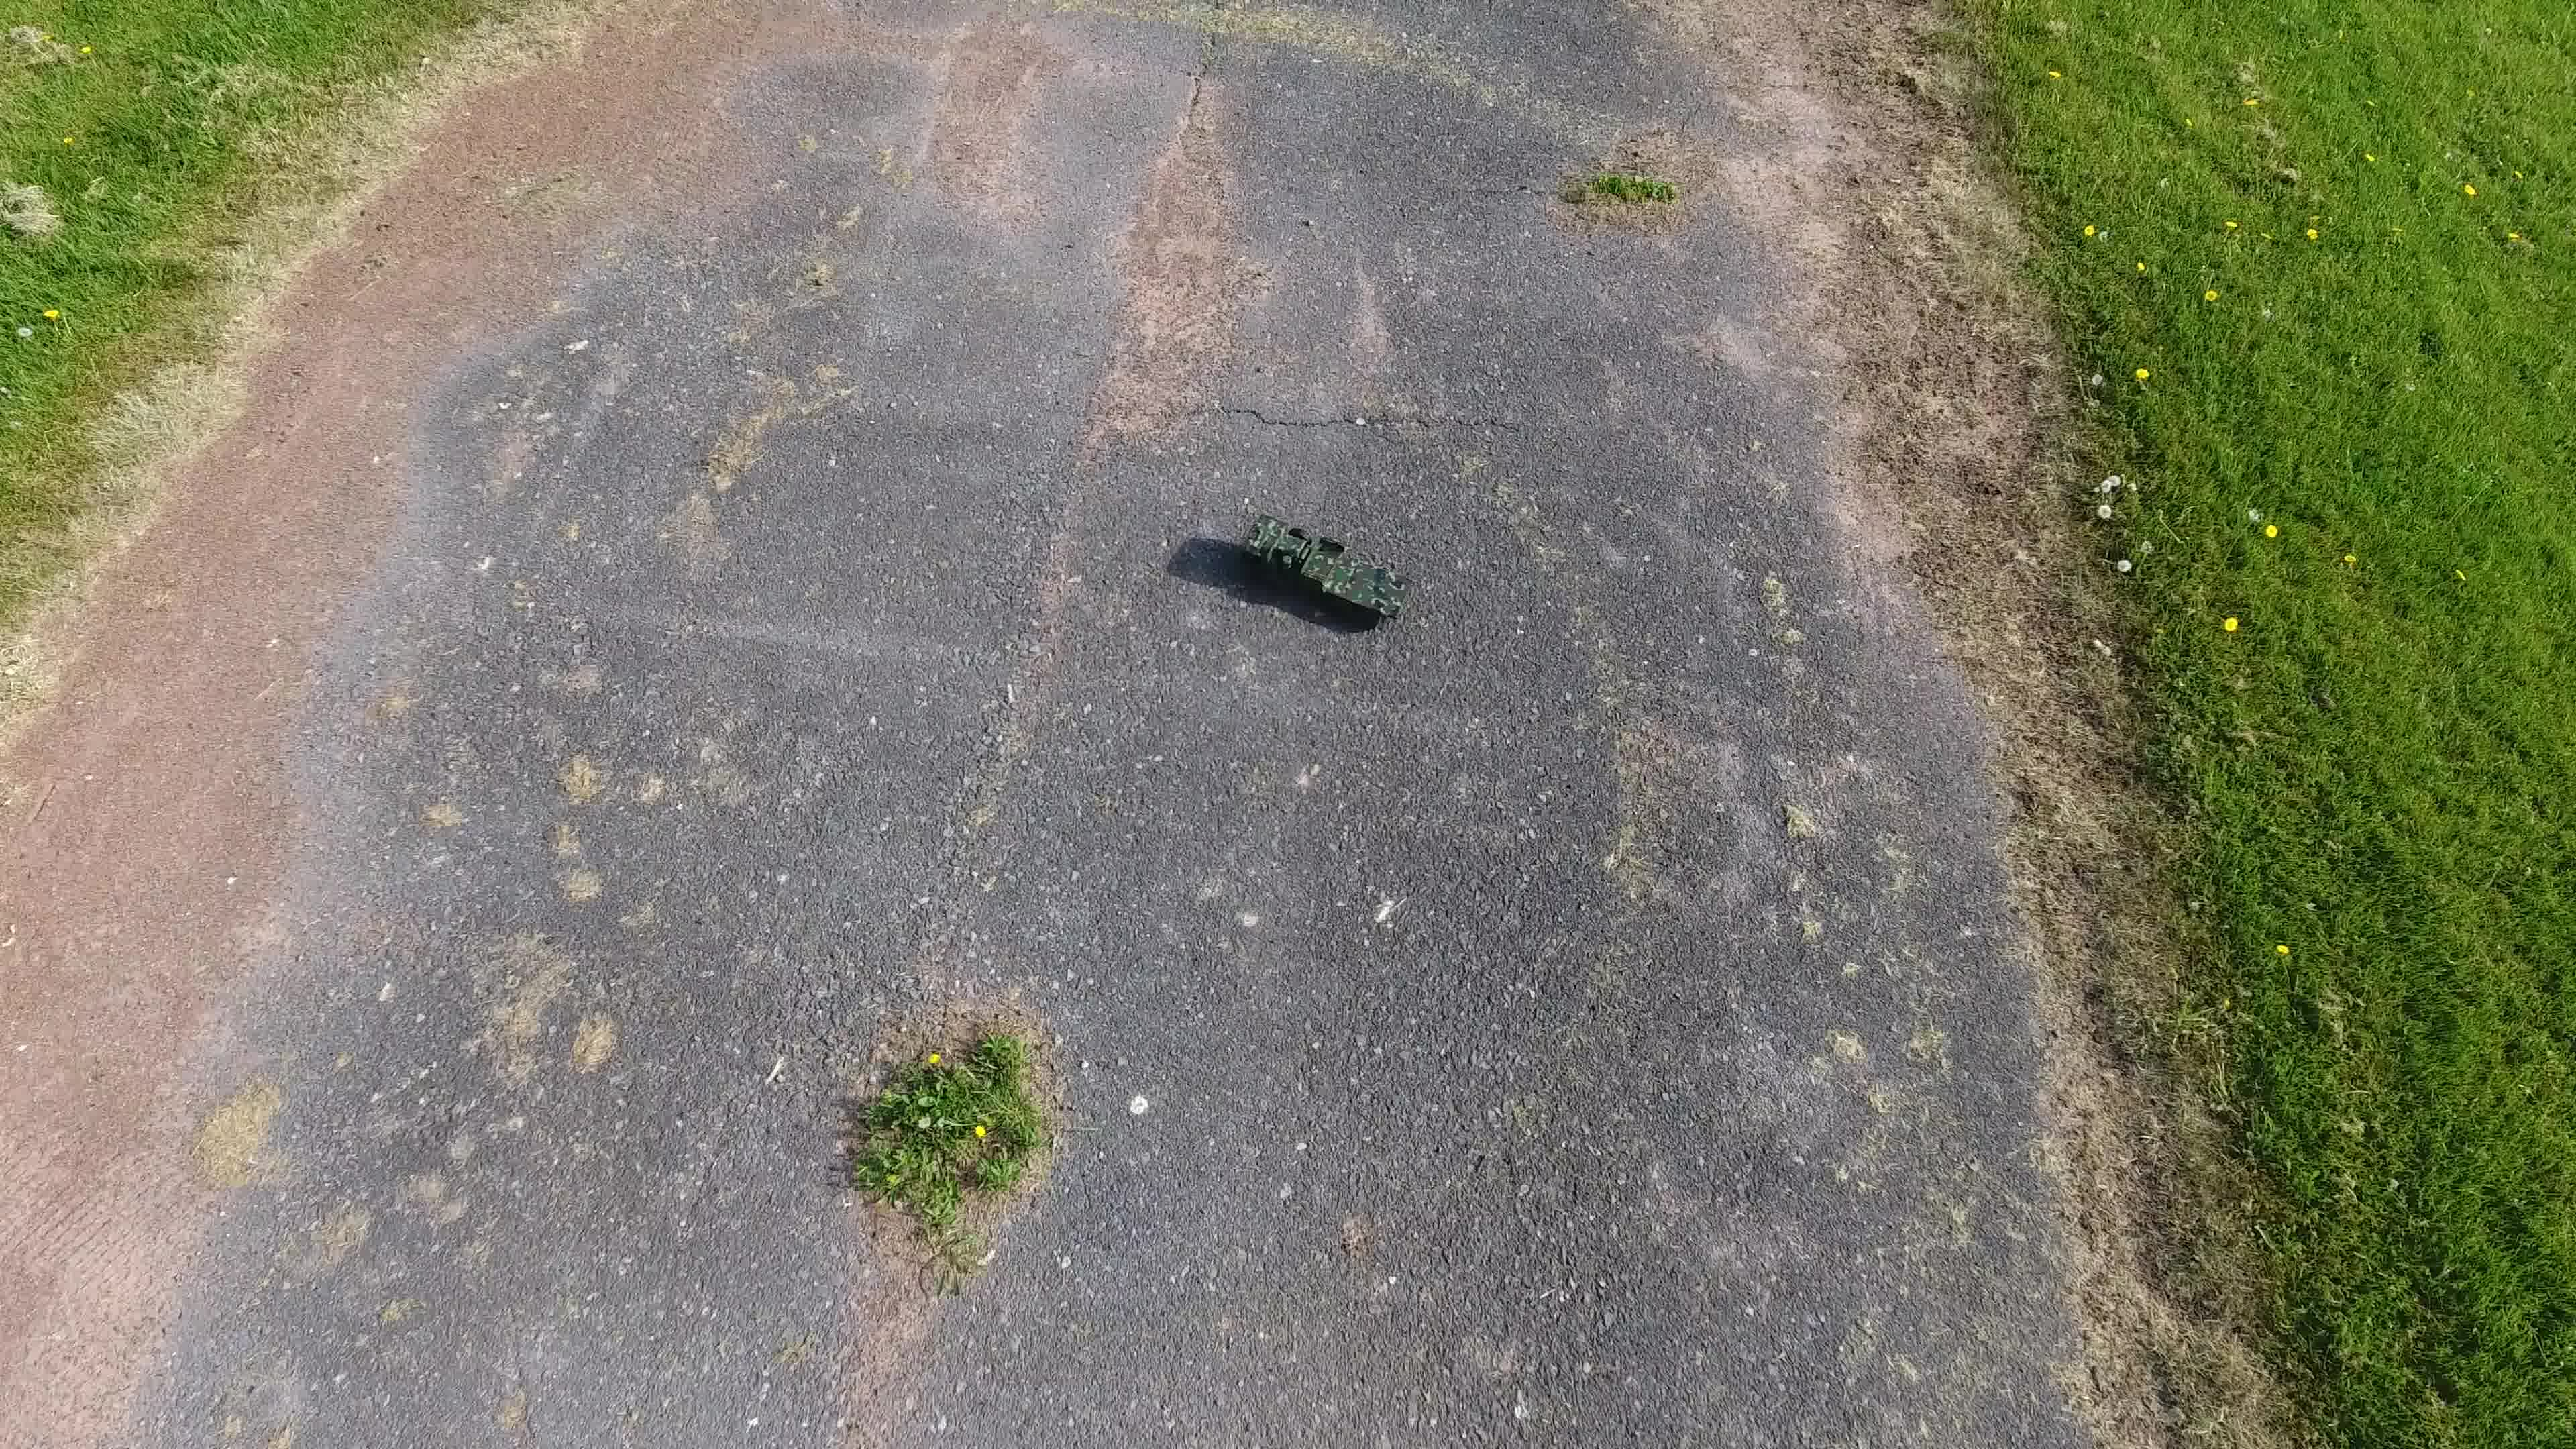transporter9_camo: (1235, 510, 1421, 628)
